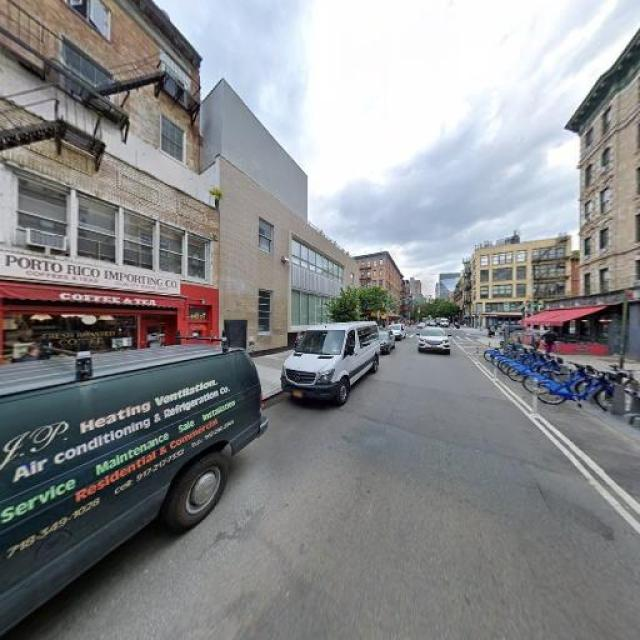Building: (1, 1, 219, 417), (222, 77, 362, 365), (582, 38, 640, 363)
